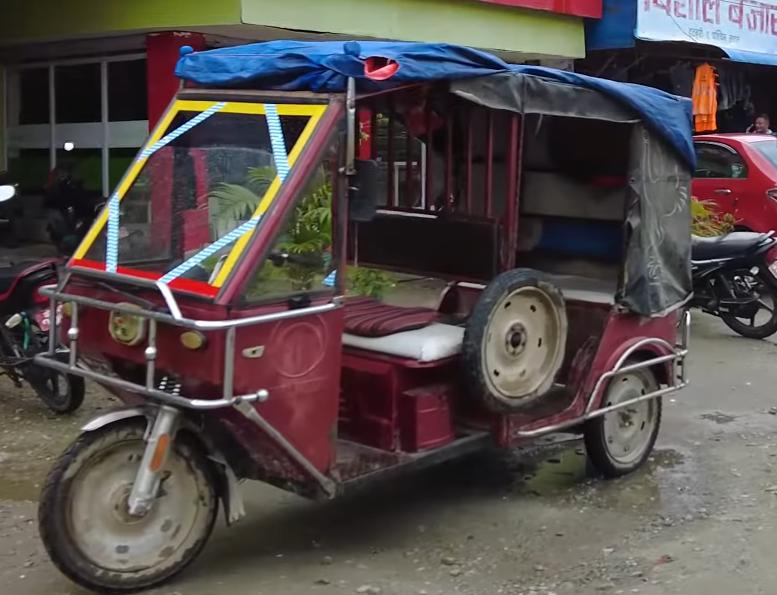bike: (0, 184, 85, 412), (685, 225, 777, 339)
e-rickshaw: (24, 32, 701, 595)
